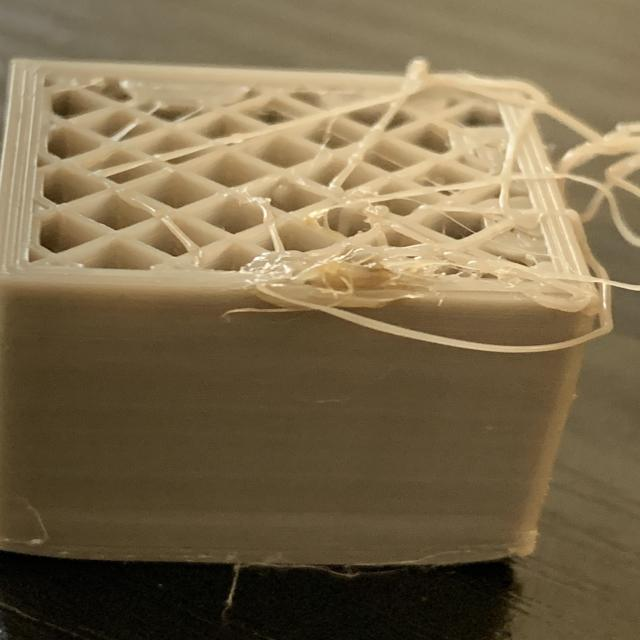Spaghetti: (107, 61, 640, 352)
